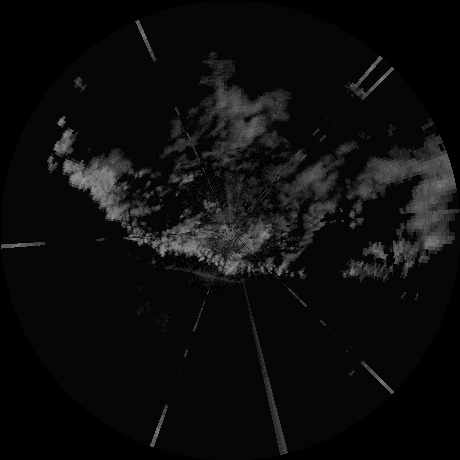frontgust: (174, 268, 252, 283)
